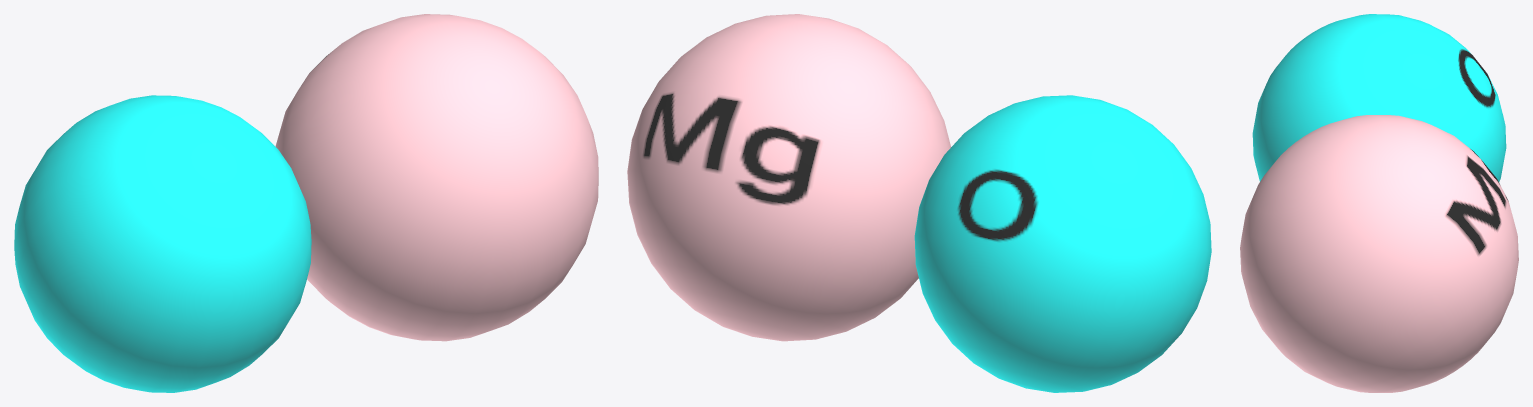
File: MgO.glb
3 renders of one model, left to right at view 1: azimuth 30°, elevation 25°; view 2: azimuth 150°, elevation 25°; view 3: azimuth 270°, elevation 25°, orthographic. The views are drawn at different scales.
Visible parts, largest first — view 1: 球体, 球体.001; view 2: 球体, 球体.001; view 3: 球体, 球体.001.
Part boxes in pixels (x1=…): 球体: x1=275, y1=14, x2=598, y2=341; 球体.001: x1=14, y1=95, x2=311, y2=392; 球体: x1=627, y1=14, x2=950, y2=341; 球体.001: x1=914, y1=95, x2=1211, y2=392; 球体: x1=1240, y1=115, x2=1518, y2=392; 球体.001: x1=1252, y1=14, x2=1506, y2=181.
Size of the model in its own units: 1.52 by 0.7923 by 0.7923.
2 materials, 2 textured.
